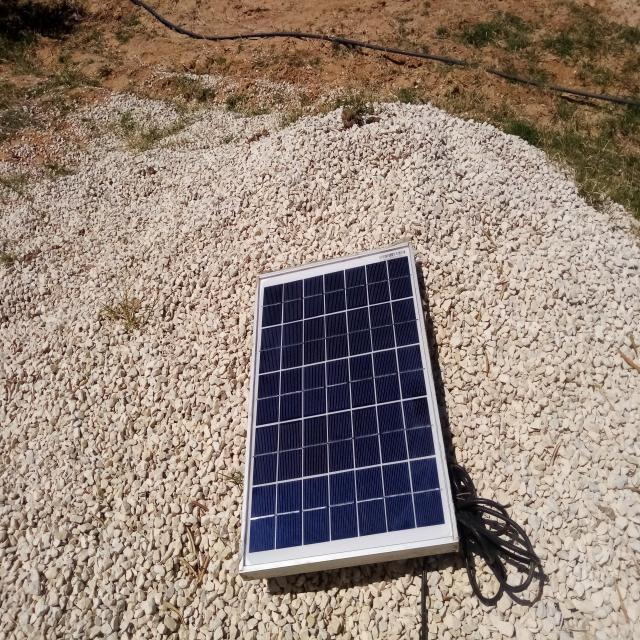no faulty: (240, 242, 456, 570)
